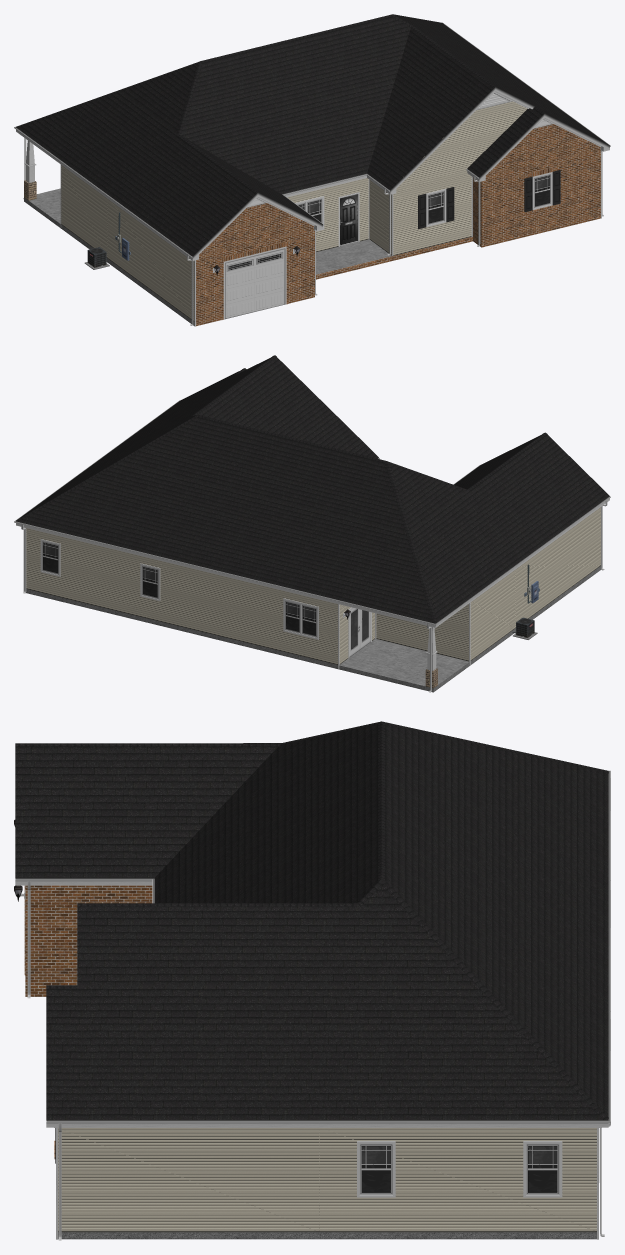
The model's file is house5_mirror2.fbx.
The picture shows the model from 3 angles, top to bottom: view 1: azimuth 30°, elevation 25°; view 2: azimuth 150°, elevation 25°; view 3: azimuth 270°, elevation 25°; orthographic projection. The views are drawn at different scales.
Visible parts, largest first — view 1: house5_mirror2_LOD0; view 2: house5_mirror2_LOD0; view 3: house5_mirror2_LOD0.
Part boxes in pixels (x1,y1,x2,y2): house5_mirror2_LOD0: (14,14,610,326); house5_mirror2_LOD0: (14,355,610,692); house5_mirror2_LOD0: (14,721,610,1240).
Size of what is drawn, in the model's own units: 5.51 by 1.92 by 3.85.
